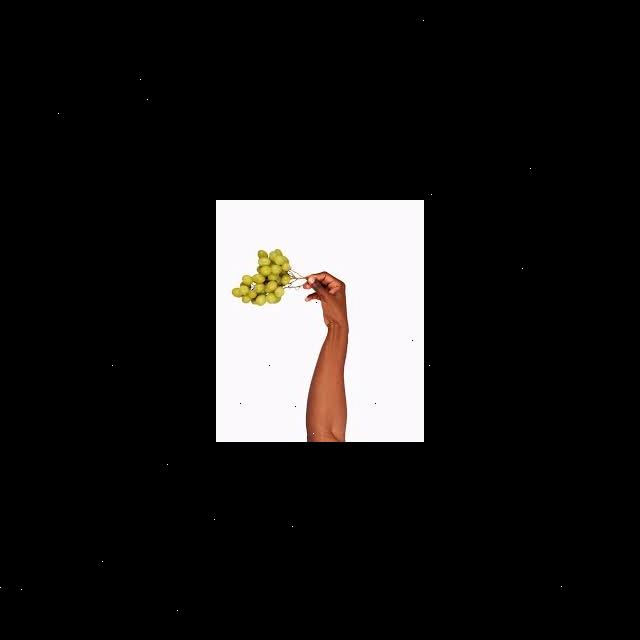grape: (232, 247, 301, 305)
